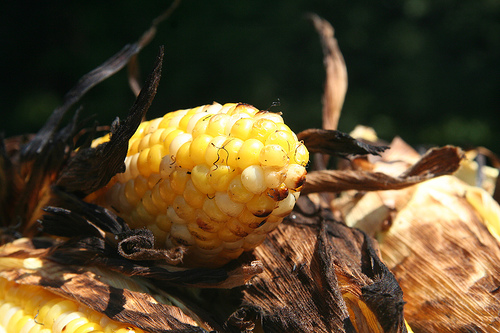corn: (87, 101, 309, 272)
